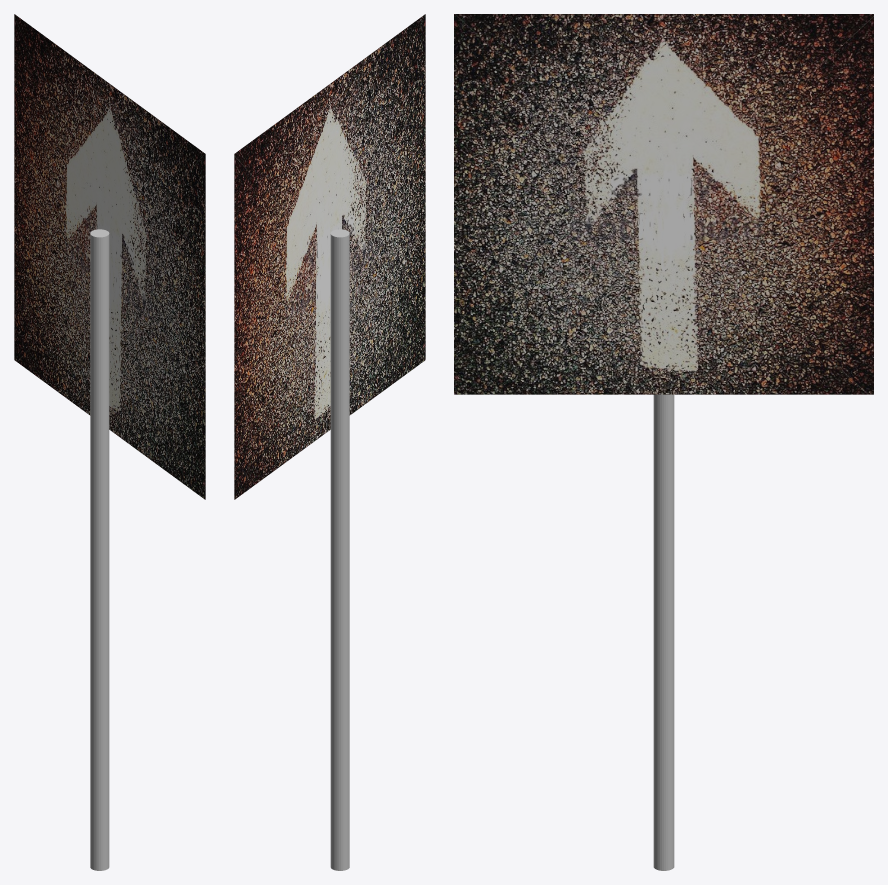
The model's file is straight.obj.
The picture shows the model from 3 angles, left to right: view 1: azimuth 30°, elevation 25°; view 2: azimuth 150°, elevation 25°; view 3: azimuth 270°, elevation 25°; orthographic projection. The views are drawn at different scales.
Visible parts, largest first — view 1: Plane, Cylinder; view 2: Plane, Cylinder; view 3: Plane, Cylinder.
Boxes of the visible parts, x1,y1,x2,y2 form: Plane: [14, 14, 205, 499]; Cylinder: [90, 229, 109, 870]; Plane: [234, 14, 425, 499]; Cylinder: [330, 229, 349, 870]; Plane: [454, 14, 873, 394]; Cylinder: [653, 394, 674, 870].
Size of the model in its own units: 0.1119 by 4.51 by 2.
2 materials, 1 textured.
